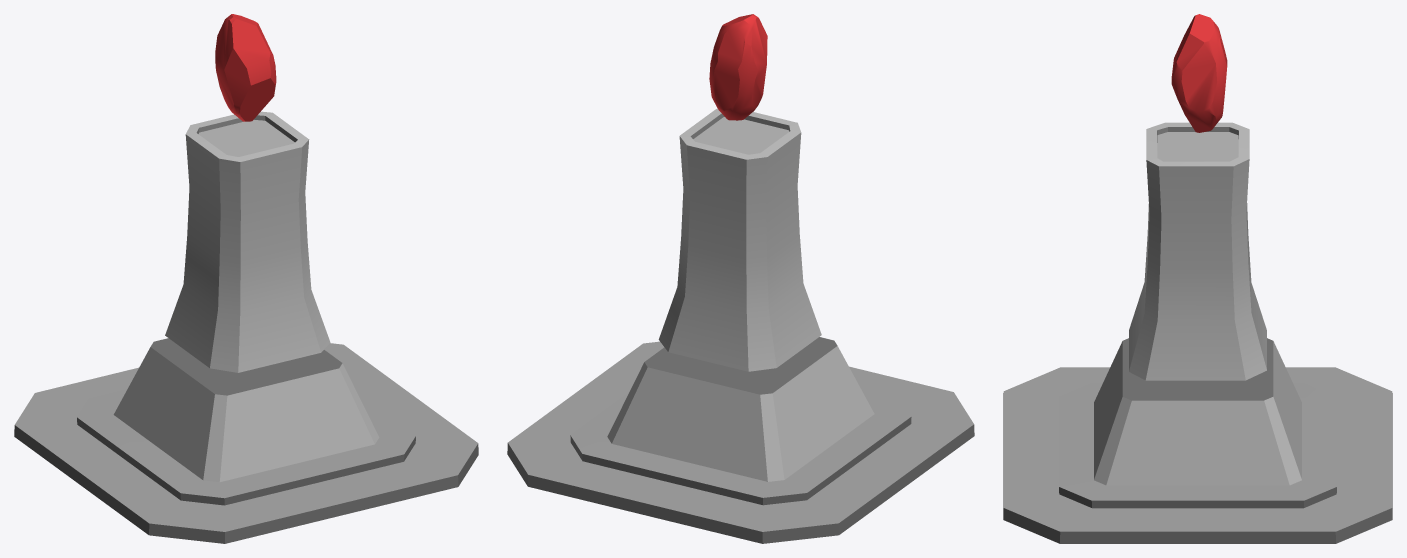
File: Fire Tower Lv1.fbx
The picture shows the model from 3 angles, left to right: view 1: azimuth 30°, elevation 25°; view 2: azimuth 150°, elevation 25°; view 3: azimuth 270°, elevation 25°; orthographic projection. The views are drawn at different scales.
Parts seen in each view (by area): view 1: Fire Tower Lv1; view 2: Fire Tower Lv1; view 3: Fire Tower Lv1.
Part boxes in pixels (x1=…): Fire Tower Lv1: x1=14, y1=14, x2=478, y2=543; Fire Tower Lv1: x1=507, y1=14, x2=974, y2=543; Fire Tower Lv1: x1=1003, y1=14, x2=1392, y2=543.
Size of the model in its own units: 869 by 1087 by 869.
